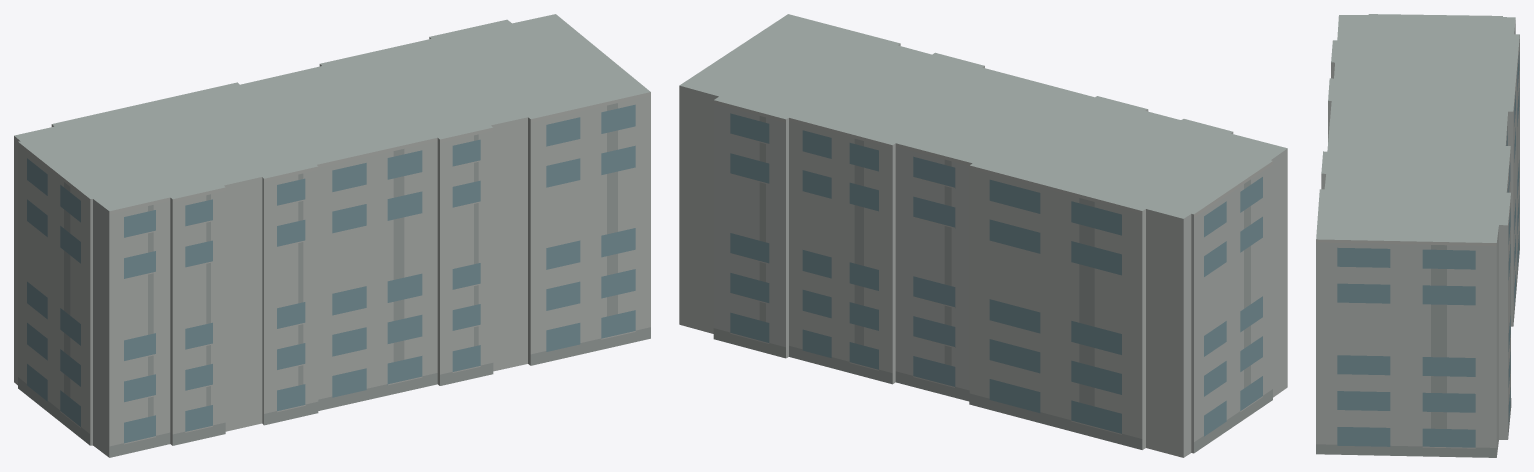
File: survey-upis-32970637.glb
3 views of the same model, side by side, from view 1: azimuth 30°, elevation 25°; view 2: azimuth 150°, elevation 25°; view 3: azimuth 270°, elevation 25° (orthographic). The views are drawn at different scales.
Visible parts, largest first — view 1: survey-upis-32970637.tmp; view 2: survey-upis-32970637.tmp; view 3: survey-upis-32970637.tmp.
Boxes of the visible parts, x1=… form: survey-upis-32970637.tmp: x1=14, y1=14, x2=650, y2=457; survey-upis-32970637.tmp: x1=679, y1=14, x2=1287, y2=457; survey-upis-32970637.tmp: x1=1316, y1=14, x2=1519, y2=457.
Bounding box in the file's own units: 38.5 × 16.83 × 14.48.
